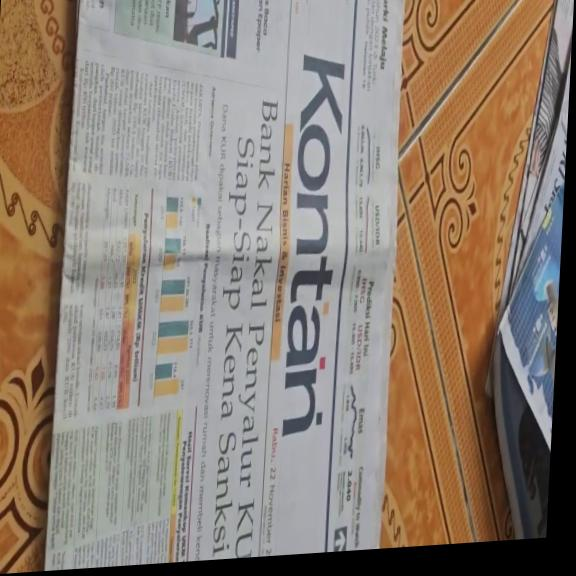Kertas: (53, 0, 408, 564)
